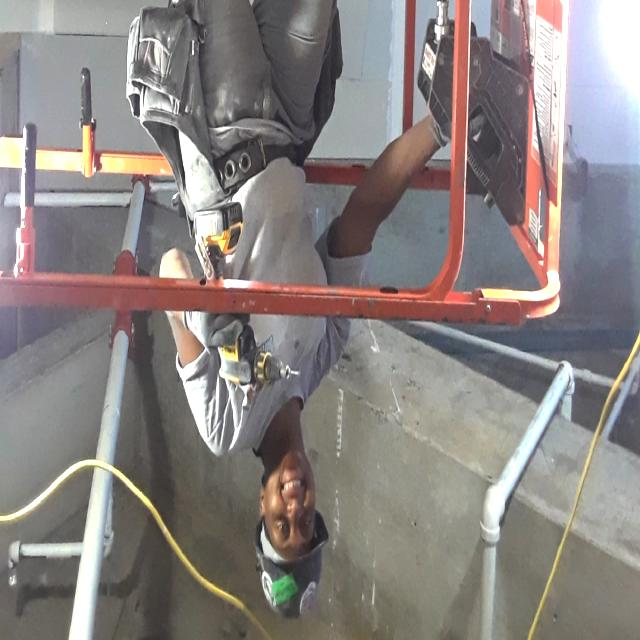Gloves: (182, 309, 250, 357)
Hard Hat: (251, 516, 331, 628)
